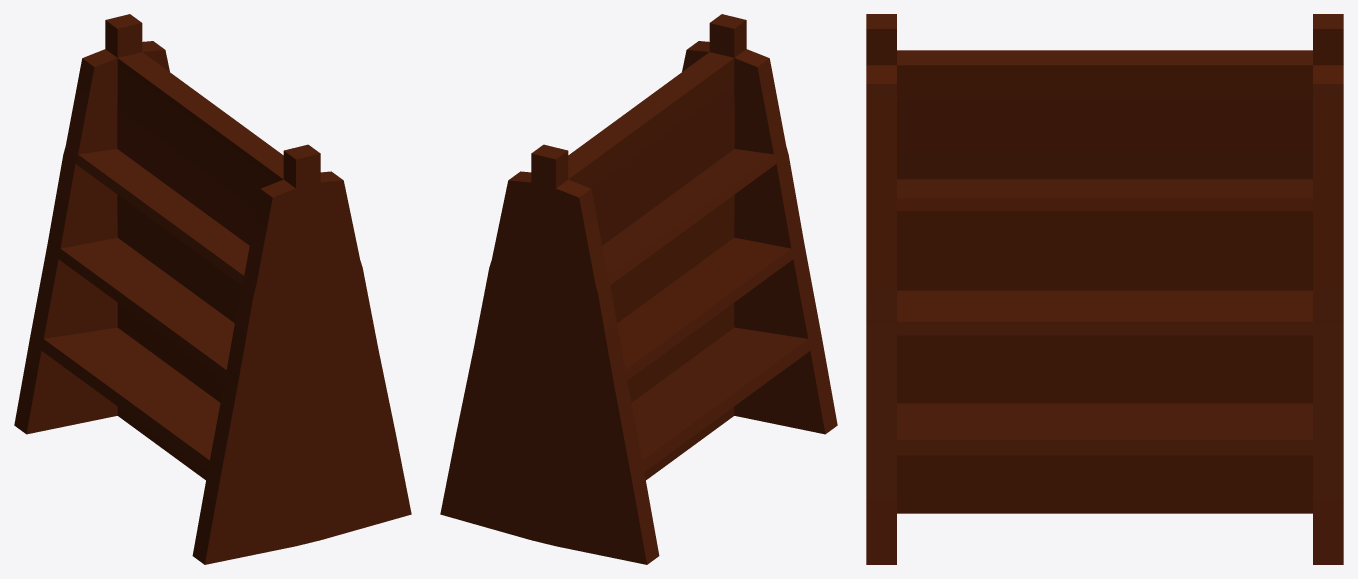
The model's file is bookshelf_triangle.glb.
The picture shows the model from 3 angles, left to right: view 1: azimuth 30°, elevation 25°; view 2: azimuth 150°, elevation 25°; view 3: azimuth 270°, elevation 25°; orthographic projection. The views are drawn at different scales.
Parts seen in each view (by area): view 1: Cube.021; view 2: Cube.021; view 3: Cube.021.
Part boxes in pixels (box(x1,y1,x2,y2)): Cube.021: box(14, 14, 411, 564); Cube.021: box(440, 14, 837, 564); Cube.021: box(866, 14, 1343, 564).
Size of the model in its own units: 2.61 by 4.67 by 4.17.
